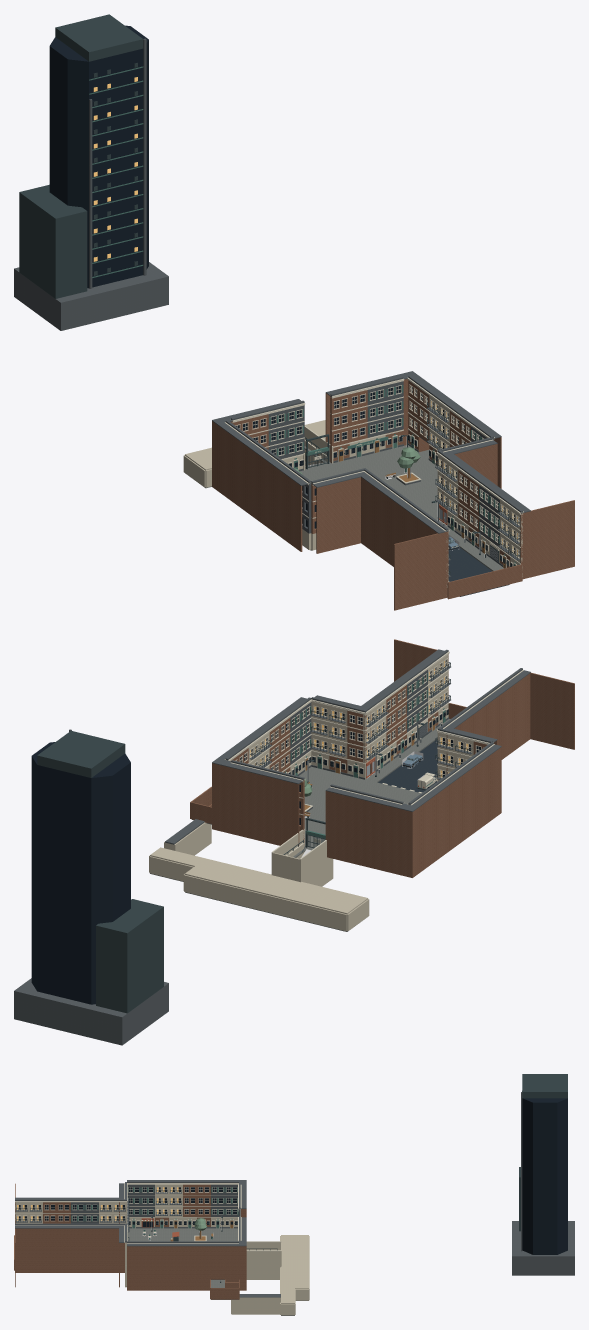
Rendered from quartier_pilote.glb.
3 renders of one model, top to bottom at view 1: azimuth 30°, elevation 25°; view 2: azimuth 150°, elevation 25°; view 3: azimuth 270°, elevation 25°, orthographic. The views are drawn at different scales.
Parts seen in each view (by area): view 1: kit_quartier_217_kit_repere_tour_56m_003, kit_quartier_217_kit_repere_tour_56m_quartier_acier, kit_quartier_217_kit_repere_tour_56m_quartier_ardoise, kit_quartier_dos_place_ouest, kit_quartier_rue_retour_ouest, kit_quartier_rue_retour_est, kit_quartier_place, kit_quartier_dos_rue_ouest, kit_quartier_fond_front_sud_ouest, kit_quartier_217_kit_repere_tour_56m_quartier_petrole, kit_quartier_fond_rue, kit_quartier_fond_front_sud_est (+2 smaller); view 2: kit_quartier_217_kit_repere_tour_56m_003, kit_quartier_217_kit_repere_tour_56m_quartier_acier, kit_quartier_dos_place_ouest, kit_quartier_217_kit_repere_tour_56m_quartier_ardoise, kit_quartier_fond_nord_ouest, kit_quartier_fond_nord_est, kit_quartier_billets_plafond, kit_quartier_dos_rue_ouest, kit_quartier_rue_retour_ouest, kit_quartier_billets_fond, kit_quartier_place, kit_quartier_rue (+13 smaller); view 3: kit_quartier_217_kit_repere_tour_56m_003, kit_quartier_dos_rue_est, kit_quartier_dos_place_est, kit_quartier_217_kit_repere_tour_56m_quartier_ardoise, kit_quartier_billets_plafond, kit_quartier_place, kit_quartier_217_kit_repere_tour_56m_quartier_acier, kit_quartier_bouche_mur_exterieur_est, kit_quartier_service_mur_est, kit_quartier_dos_place_est_nord, kit_quartier_toit_place_est, kit_quartier_dos_porche_cour (+4 smaller).
Boxes of the visible parts, bbox=[...] form: kit_quartier_217_kit_repere_tour_56m_003: bbox=[49, 25, 148, 288]; kit_quartier_217_kit_repere_tour_56m_quartier_acier: bbox=[19, 14, 143, 298]; kit_quartier_217_kit_repere_tour_56m_quartier_ardoise: bbox=[14, 38, 168, 330]; kit_quartier_dos_place_ouest: bbox=[217, 425, 302, 551]; kit_quartier_rue_retour_ouest: bbox=[394, 531, 448, 610]; kit_quartier_rue_retour_est: bbox=[520, 500, 574, 579]; kit_quartier_place: bbox=[300, 445, 437, 550]; kit_quartier_dos_rue_ouest: bbox=[361, 477, 439, 599]; kit_quartier_fond_front_sud_ouest: bbox=[316, 477, 360, 553]; kit_quartier_217_kit_repere_tour_56m_quartier_petrole: bbox=[89, 66, 143, 277]; kit_quartier_fond_rue: bbox=[447, 564, 522, 599]; kit_quartier_fond_front_sud_est: bbox=[442, 444, 497, 520]; kit_quartier_217_kit_repere_tour_56m_003: bbox=[31, 742, 130, 1004]; kit_quartier_217_kit_repere_tour_56m_quartier_acier: bbox=[37, 730, 163, 1013]; kit_quartier_dos_place_ouest: bbox=[418, 747, 501, 873]; kit_quartier_217_kit_repere_tour_56m_quartier_ardoise: bbox=[14, 729, 168, 1045]; kit_quartier_fond_nord_ouest: bbox=[325, 791, 397, 874]; kit_quartier_fond_nord_est: bbox=[226, 767, 299, 845]; kit_quartier_billets_plafond: bbox=[185, 858, 367, 914]; kit_quartier_dos_rue_ouest: bbox=[446, 673, 530, 774]; kit_quartier_rue_retour_ouest: bbox=[530, 672, 574, 749]; kit_quartier_billets_fond: bbox=[184, 875, 347, 931]; kit_quartier_place: bbox=[299, 766, 420, 847]; kit_quartier_rue: bbox=[378, 739, 437, 792]; kit_quartier_217_kit_repere_tour_56m_003: bbox=[522, 1098, 567, 1254]; kit_quartier_dos_rue_est: bbox=[15, 1228, 124, 1272]; kit_quartier_dos_place_est: bbox=[127, 1246, 210, 1290]; kit_quartier_217_kit_repere_tour_56m_quartier_ardoise: bbox=[512, 1092, 574, 1275]; kit_quartier_billets_plafond: bbox=[281, 1235, 308, 1288]; kit_quartier_place: bbox=[128, 1228, 237, 1287]; kit_quartier_217_kit_repere_tour_56m_quartier_acier: bbox=[519, 1074, 567, 1231]; kit_quartier_bouche_mur_exterieur_est: bbox=[246, 1251, 281, 1279]; kit_quartier_service_mur_est: bbox=[239, 1297, 280, 1314]; kit_quartier_dos_place_est_nord: bbox=[225, 1246, 238, 1281]; kit_quartier_toit_place_est: bbox=[127, 1242, 246, 1246]; kit_quartier_dos_porche_cour: bbox=[211, 1246, 224, 1279].
Bounding box in the file's own units: 50.5 × 61.5 × 160.
Materials: 18 (5 with a texture image).
